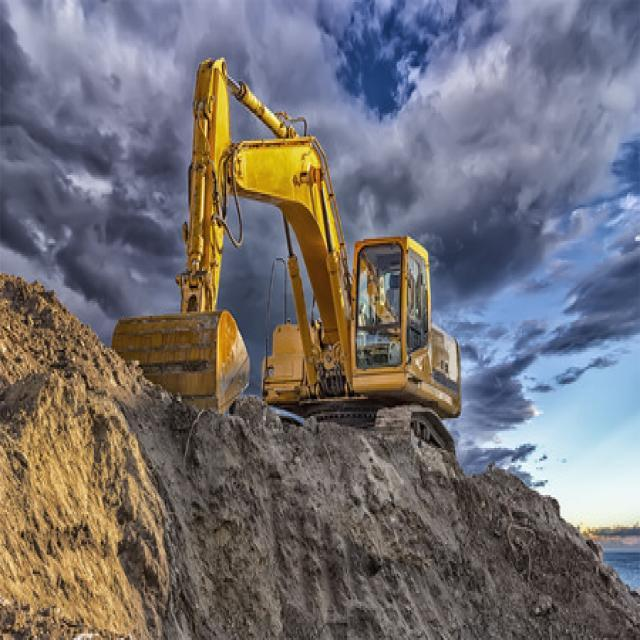C_E: (110, 47, 466, 470)
